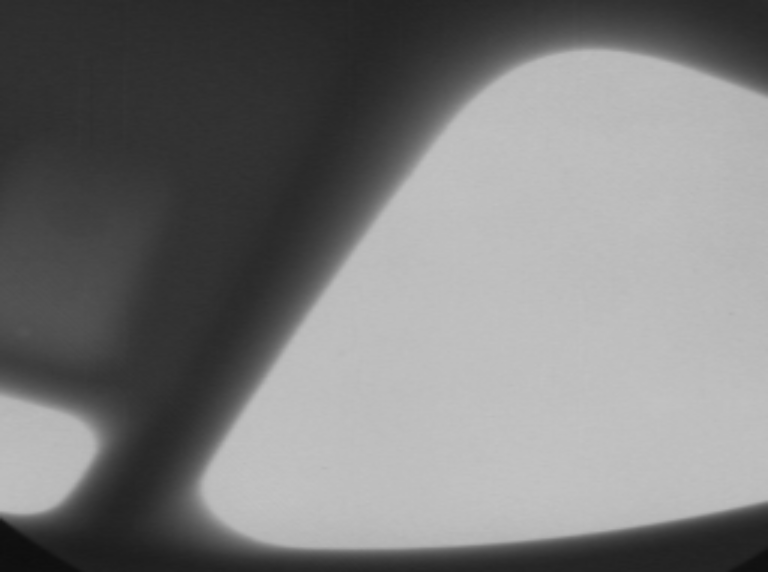defect: (9, 320, 45, 355)
